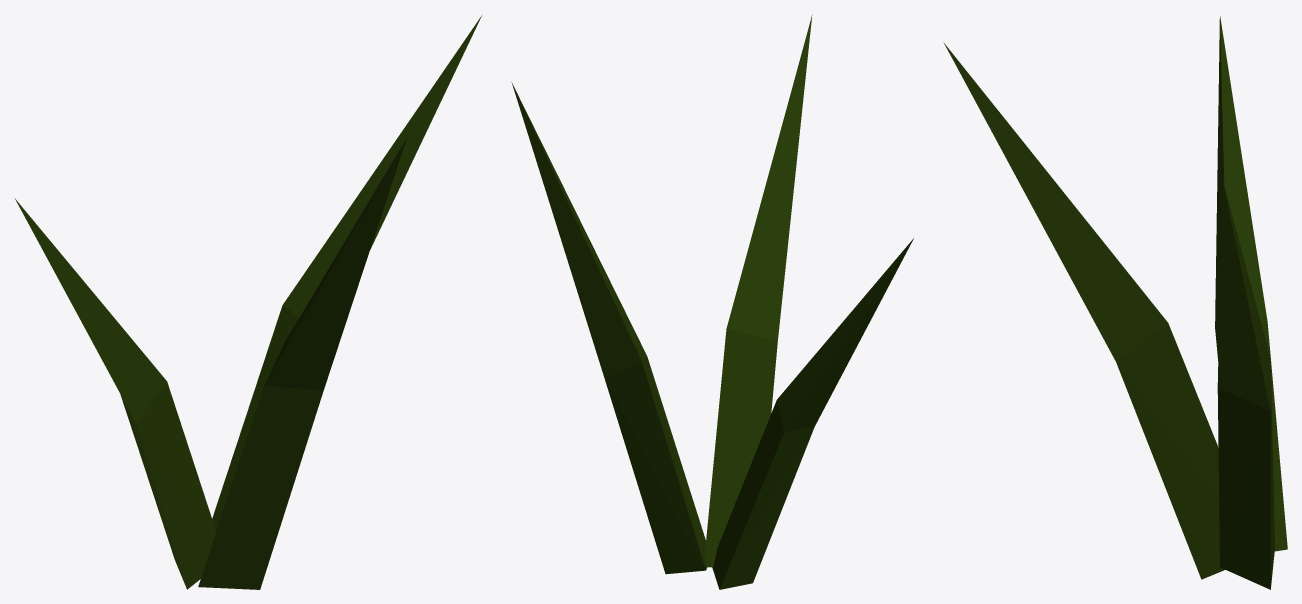
The model's file is SmallGrass.fbx.glb.
3 views of the same model, side by side, from view 1: azimuth 30°, elevation 25°; view 2: azimuth 150°, elevation 25°; view 3: azimuth 270°, elevation 25° (orthographic). The views are drawn at different scales.
Parts seen in each view (by area): view 1: SmallGrass; view 2: SmallGrass; view 3: SmallGrass.
Boxes of the visible parts, left/top/right/bottom form: SmallGrass: left=15, top=15, right=481, bottom=589; SmallGrass: left=511, top=15, right=913, bottom=589; SmallGrass: left=943, top=16, right=1287, bottom=589.
Size of the model in its own units: 44.86 by 49.41 by 28.19.
